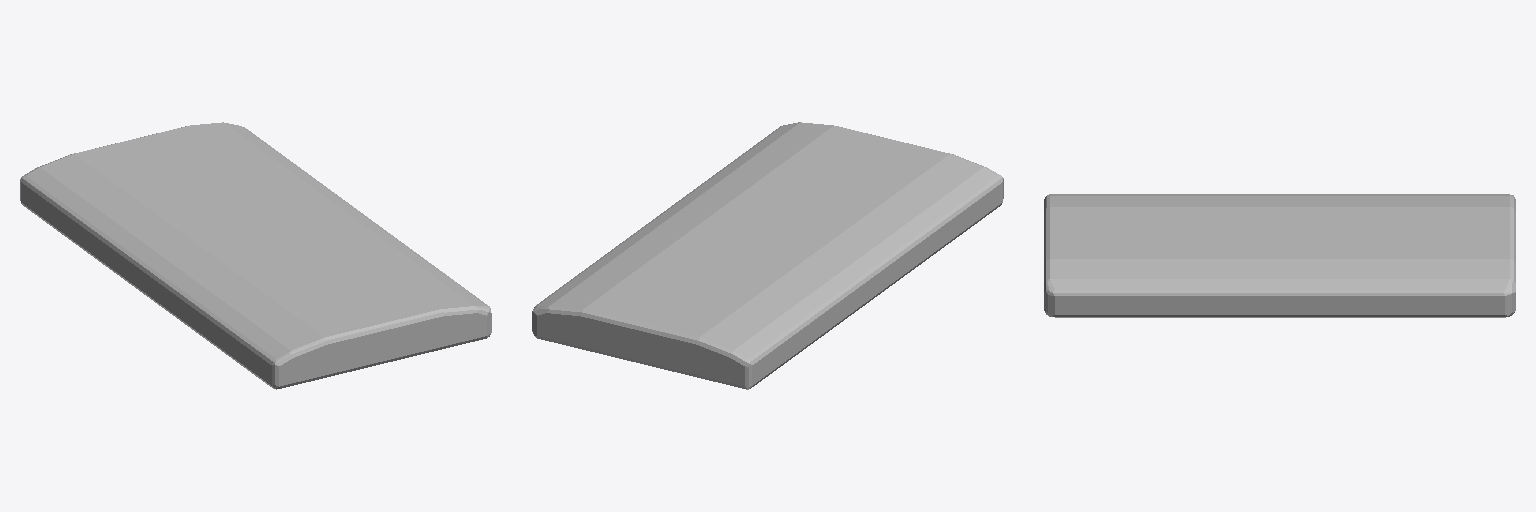
URDF robot description (root):
<robot name="root">
  <link name="link_coacd_convex_piece_0">
    <inertial>
      <origin xyz="0 0 0" rpy="0 0 0"/>
      <inertia ixx="5.26E-02" ixy="2.11E-06" ixz="2.32E-06" iyy="1.24E-02" iyz="2.51E-07" izz="6.43E-02"/>
    </inertial>
    <visual>
      <origin xyz="0 0 0" rpy="0 0 0"/>
      <geometry>
        <mesh filename="coacd_convex_piece_0.obj" scale="1.0000E+00 1.0000E+00 1.0000E+00"/>
      </geometry>
      <material name="">
        <color rgba="7.50E-01 7.50E-01 7.50E-01 1"/>
      </material>
    </visual>
    <collision>
      <origin xyz="0 0 0" rpy="0 0 0"/>
      <geometry>
        <mesh filename="coacd_convex_piece_0.obj" scale="1.0000E+00 1.0000E+00 1.0000E+00"/>
      </geometry>
    </collision>
  </link>
</robot>

--- Facts derived from the render (not from the file) ---
3 views of the same robot in one strip: view 1: azimuth 30°, elevation 25°; view 2: azimuth 150°, elevation 25°; view 3: azimuth 270°, elevation 25° (orthographic).
Robot: root — 1 links, 0 joints (none); root link link_coacd_convex_piece_0; default pose: all joints at 0.
Visible links, largest first — view 1: link_coacd_convex_piece_0; view 2: link_coacd_convex_piece_0; view 3: link_coacd_convex_piece_0.
Link boxes in pixels (x1=…): link_coacd_convex_piece_0: x1=20, y1=122, x2=491, y2=389; link_coacd_convex_piece_0: x1=532, y1=122, x2=1003, y2=389; link_coacd_convex_piece_0: x1=1044, y1=194, x2=1515, y2=317.
Bounding box of the posed robot: 0.8868 × 1.77 × 0.1542 m (x, y, z).
Meshes: 1 distinct files referenced, 1 mesh visuals loaded (1 OBJ).
